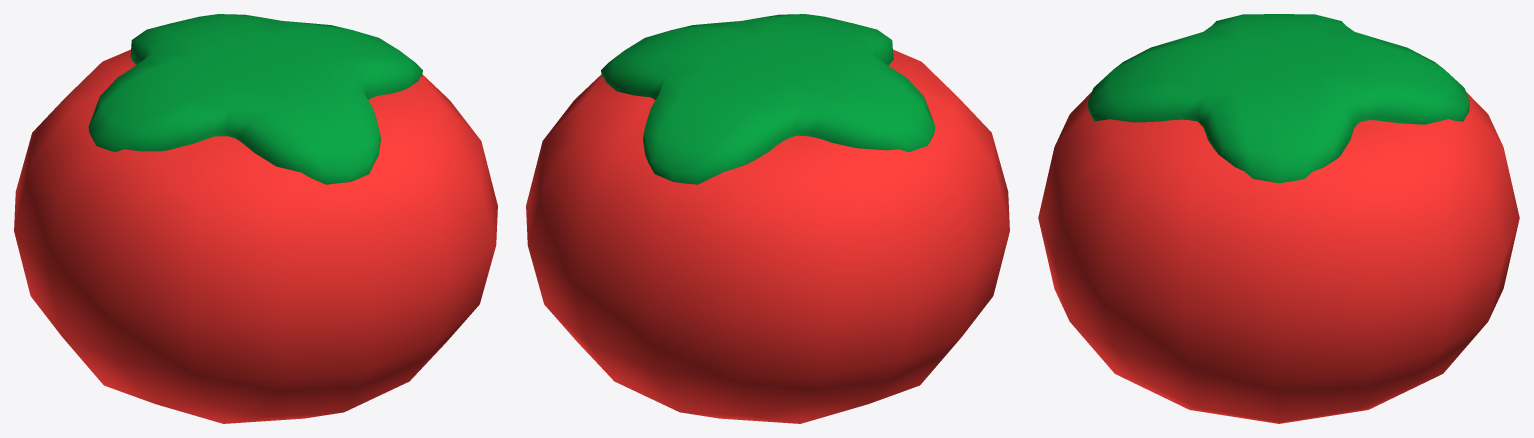
File: tomato.glb
The picture shows the model from 3 angles, left to right: view 1: azimuth 30°, elevation 25°; view 2: azimuth 150°, elevation 25°; view 3: azimuth 270°, elevation 25°; orthographic projection.
Visible parts, largest first — view 1: Tomato; view 2: Tomato; view 3: Tomato.
Part boxes in pixels (<box>): Tomato: <box>14,14,497,423</box>; Tomato: <box>526,14,1009,423</box>; Tomato: <box>1038,14,1519,423</box>.
Size of the model in its own units: 0.1424 by 0.1105 by 0.1424.
1 material, 1 textured.
